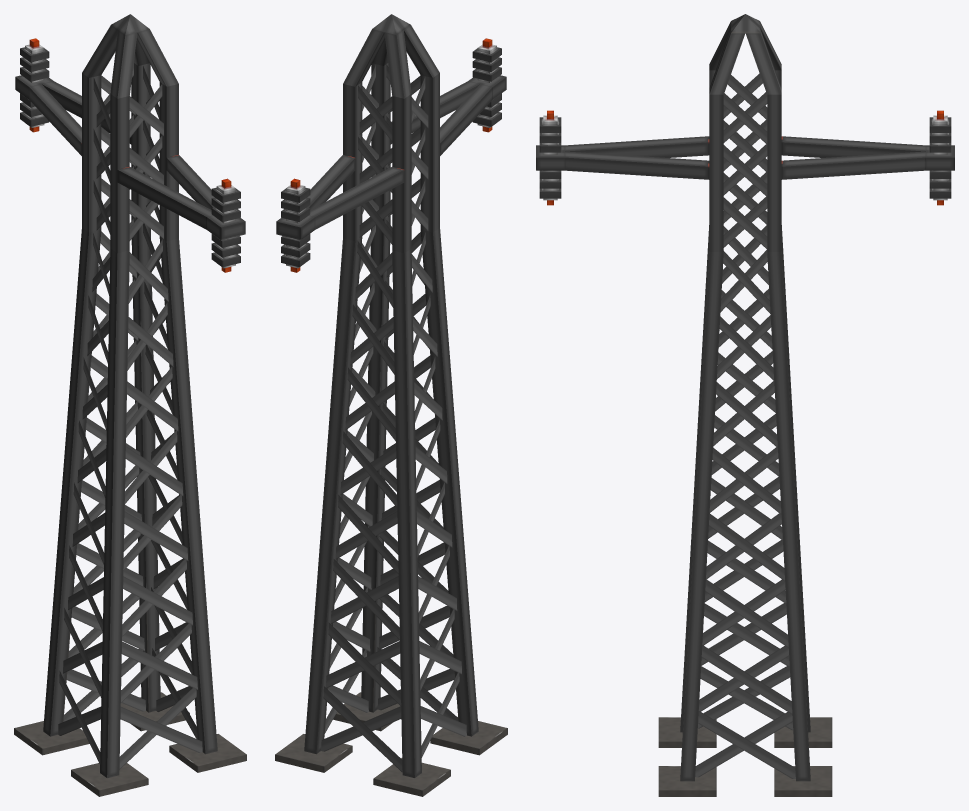
File: pylon_large.obj
The picture shows the model from 3 angles, left to right: view 1: azimuth 30°, elevation 25°; view 2: azimuth 150°, elevation 25°; view 3: azimuth 270°, elevation 25°; orthographic projection.
Visible parts, largest first — view 1: Cube_Cube.001; view 2: Cube_Cube.001; view 3: Cube_Cube.001.
Part boxes in pixels (<box>): Cube_Cube.001: <box>14,14,246,796</box>; Cube_Cube.001: <box>275,14,507,796</box>; Cube_Cube.001: <box>536,14,954,796</box>.
Bounding box in the file's own units: 3 × 14.25 × 7.25.
